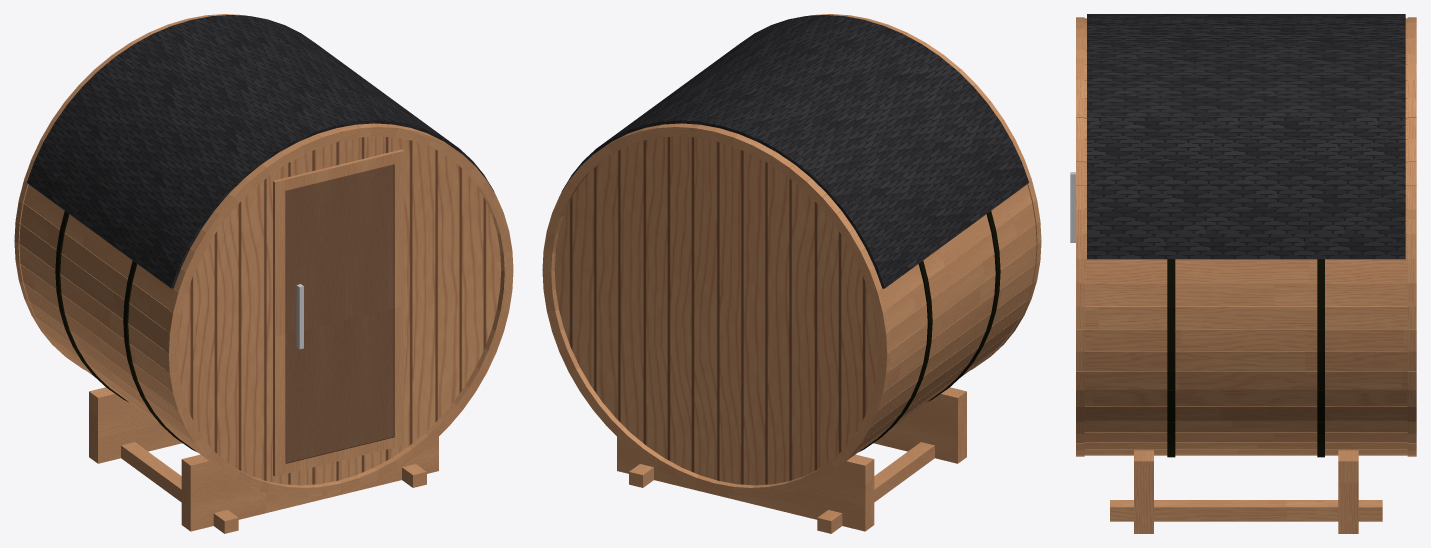
Rendered from marrkan-marrkan-s.glb.
The picture shows the model from 3 angles, left to right: view 1: azimuth 30°, elevation 25°; view 2: azimuth 150°, elevation 25°; view 3: azimuth 270°, elevation 25°; orthographic projection. The views are drawn at different scales.
Parts seen in each view (by area): view 1: barrel, shingle, barrel_end, tint, black; view 2: barrel_end, shingle, barrel, black; view 3: shingle, barrel, black, steel.
Boxes of the visible parts, x1=… form: barrel: x1=14, y1=14, x2=513, y2=533; shingle: x1=26, y1=15, x2=494, y2=288; barrel_end: x1=177, y1=136, x2=501, y2=485; tint: x1=285, y1=164, x2=394, y2=463; black: x1=55, y1=211, x2=196, y2=451; barrel_end: x1=554, y1=136, x2=878, y2=485; shingle: x1=561, y1=15, x2=1029, y2=288; barrel: x1=542, y1=14, x2=1041, y2=533; black: x1=859, y1=211, x2=1000, y2=451; shingle: x1=1087, y1=14, x2=1405, y2=259; barrel: x1=1076, y1=17, x2=1416, y2=533; black: x1=1167, y1=259, x2=1324, y2=457; steel: x1=1070, y1=172, x2=1075, y2=242.
Size of the model in its own units: 1.98 by 2.14 by 1.56.
7 materials, 3 textured.
